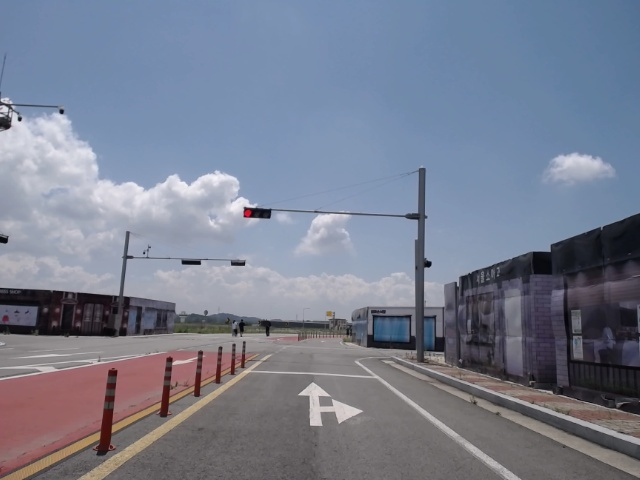red_3: (241, 205, 273, 220)
